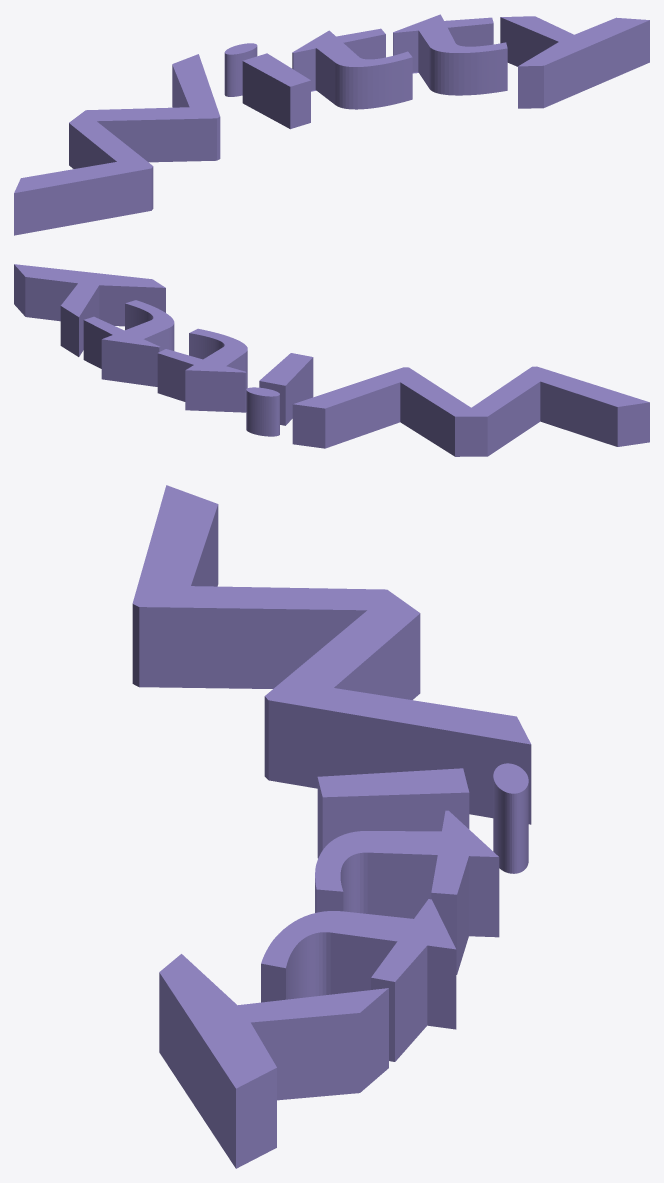
The model's file is witty.dae.
3 renders of one model, top to bottom at view 1: azimuth 30°, elevation 25°; view 2: azimuth 150°, elevation 25°; view 3: azimuth 270°, elevation 25°, orthographic. The views are drawn at different scales.
Visible parts, largest first — view 1: Witty; view 2: Witty; view 3: Witty.
Part boxes in pixels (x1,y1,x2,y2): Witty: (14,14,649,235); Witty: (14,264,649,456); Witty: (132,485,531,1168).
Bounding box in the file's own units: 4.36 × 1.22 × 0.27.
